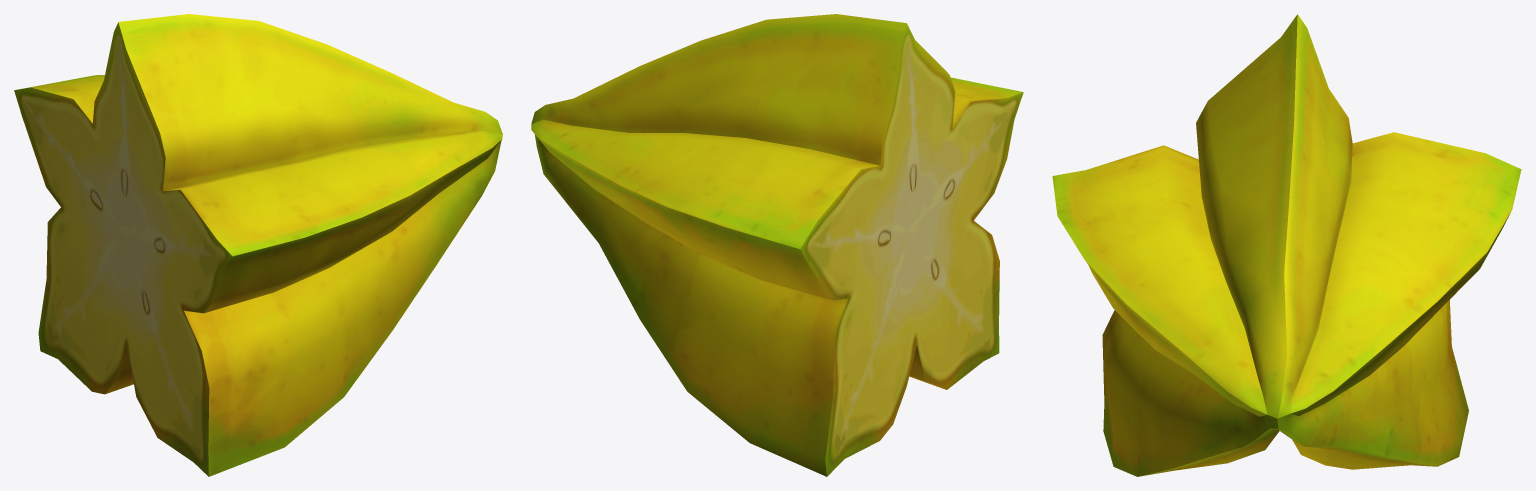
The model's file is SM_StarFruitCutB.fbx.
3 views of the same model, side by side, from view 1: azimuth 30°, elevation 25°; view 2: azimuth 150°, elevation 25°; view 3: azimuth 270°, elevation 25° (orthographic). The views are drawn at different scales.
Parts seen in each view (by area): view 1: SM_StarFruitCutB; view 2: SM_StarFruitCutB; view 3: SM_StarFruitCutB.
Part boxes in pixels (left/top/right/bottom): SM_StarFruitCutB: left=14, top=14, right=502, bottom=476; SM_StarFruitCutB: left=531, top=14, right=1023, bottom=476; SM_StarFruitCutB: left=1052, top=14, right=1521, bottom=476.
Size of the model in its own units: 11.31 by 11.24 by 11.44.
